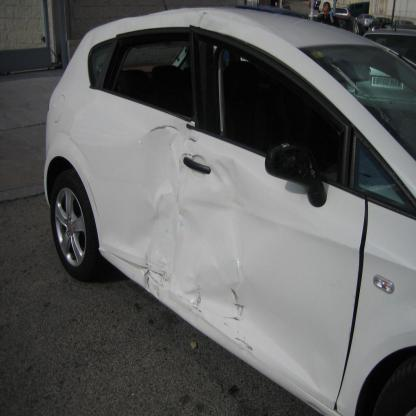door: (70, 88, 366, 410)
